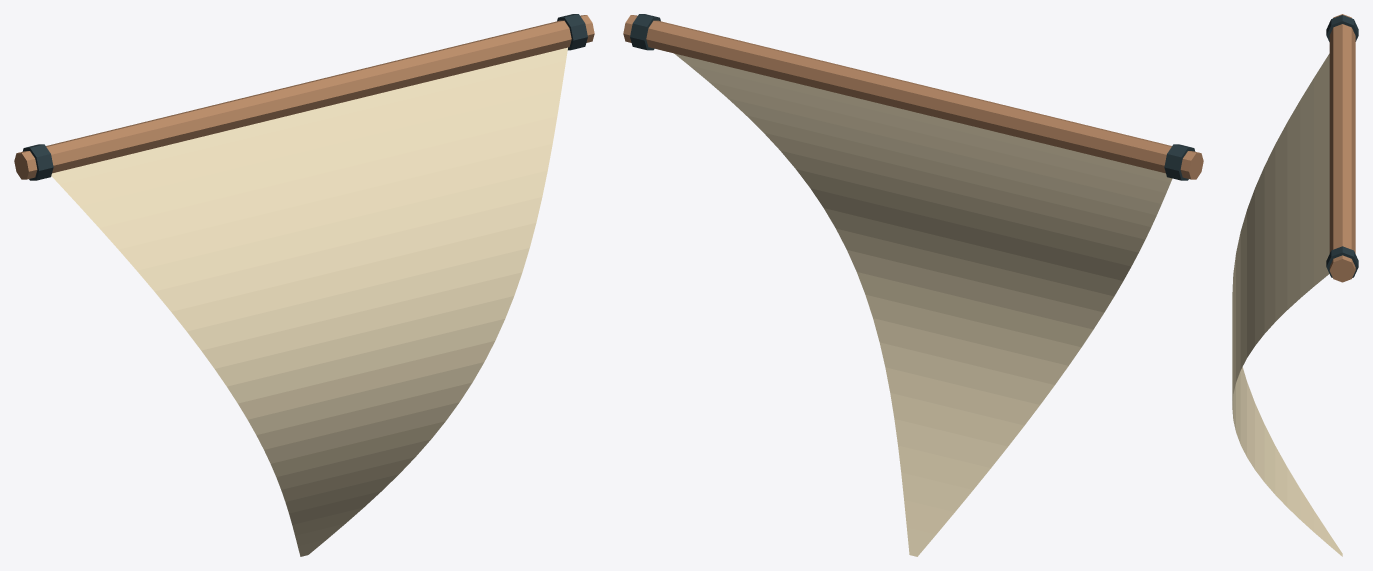
The model's file is secondary_sail_pointed.glb.
3 renders of one model, left to right at view 1: azimuth 30°, elevation 25°; view 2: azimuth 150°, elevation 25°; view 3: azimuth 270°, elevation 25°, orthographic. The views are drawn at different scales.
Visible parts, largest first — view 1: secondary_sail cloth pointed, secondary_sail yard.003; view 2: secondary_sail cloth pointed, secondary_sail yard.003; view 3: secondary_sail cloth pointed, secondary_sail yard.003, Yard iron collar.017, Yard iron collar.016.
Boxes of the visible parts, bbox=[...] form: secondary_sail cloth pointed: bbox=[51, 47, 567, 556]; secondary_sail yard.003: bbox=[14, 15, 594, 179]; secondary_sail cloth pointed: bbox=[674, 53, 1172, 556]; secondary_sail yard.003: bbox=[623, 15, 1203, 179]; secondary_sail cloth pointed: bbox=[1232, 53, 1342, 556]; secondary_sail yard.003: bbox=[1329, 14, 1355, 282]; Yard iron collar.017: bbox=[1326, 246, 1358, 277]; Yard iron collar.016: bbox=[1326, 15, 1358, 41].
Size of the model in its own units: 4.68 by 3.75 by 1.02.
